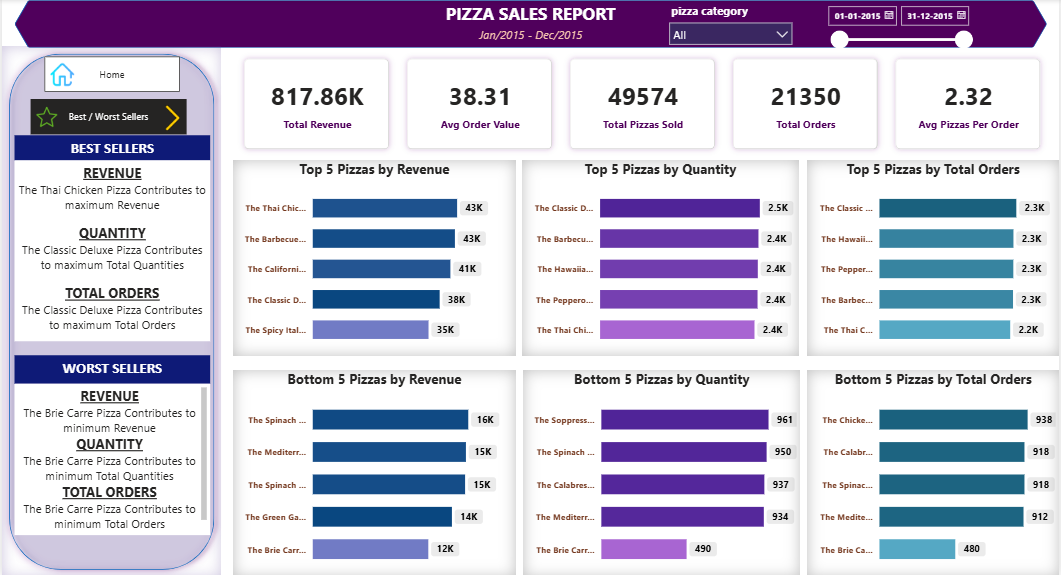

Layout of this report page (visuals, bound fields, positions):
{"tool":"powerbi","page":{"name":"Best / Worst Sellers","canvas":[1500,820],"ordinal":1},"visuals":[{"type":"cardVisual","fields":{"Data":["pizza_sales.Total Revenue","pizza_sales.Avg Order Value","pizza_sales.Total Pizzas Sold","pizza_sales.Total Orders","pizza_sales.Avg Pizzas Per Order"]},"box":[328.3,68.8,1162.5,160.9],"z":0},{"type":"shape","box":[16.9,1.3,1464.8,67.5],"z":1000},{"type":"textbox","box":[613.7,0,273.3,42.1],"z":2000},{"type":"textbox","box":[664.9,34.2,170.8,35.5],"z":3000},{"type":"barChart","title":"Top 5 Pizzas by Revenue","fields":{"Category":["pizza_sales.pizza_name"],"Y":["pizza_sales.Total Revenue"]},"box":[328.3,228.4,400.9,277.7],"z":4000},{"type":"shape","box":[0,67.5,311.4,752.5],"z":9000},{"type":"textbox","box":[16.9,193.3,277.7,36.3],"z":10000},{"type":"textbox","box":[16.9,229.7,277.7,256.9],"z":11000},{"type":"textbox","box":[16.9,506,277.7,40.2],"z":12000},{"type":"textbox","box":[16.9,546.2,277.7,214.1],"z":13000},{"type":"slicer","fields":{"Values":["pizza_sales.pizza_category"]},"box":[936.8,0,194.6,67.5],"z":14000},{"type":"slicer","fields":{"Values":["pizza_sales.order_date"]},"box":[1159.9,0,225.8,81.7],"z":15000},{"type":"barChart","title":"Bottom 5 Pizzas by Revenue","fields":{"Category":["pizza_sales.pizza_name"],"Y":["pizza_sales.Total Revenue"]},"box":[328.3,526.8,400.9,293.2],"z":15001},{"type":"barChart","title":"Top 5 Pizzas by Quantity","fields":{"Category":["pizza_sales.pizza_name"],"Y":["pizza_sales.Total Pizzas Sold"]},"box":[738.3,229.7,393.1,277.7],"z":15002},{"type":"barChart","title":"Bottom 5 Pizzas by Quantity","fields":{"Category":["pizza_sales.pizza_name"],"Y":["pizza_sales.Total Pizzas Sold"]},"box":[739.6,526.8,393.1,293.2],"z":15003},{"type":"barChart","title":"Top 5 Pizzas by Total Orders","fields":{"Category":["pizza_sales.pizza_name"],"Y":["pizza_sales.Total Orders"]},"box":[1141.8,228.4,358.1,277.7],"z":15004},{"type":"barChart","title":"Bottom 5 Pizzas by Total Orders","fields":{"Category":["pizza_sales.pizza_name"],"Y":["pizza_sales.Total Orders"]},"box":[1141.8,526.8,358.1,293.2],"z":15005},{"type":"pageNavigator","box":[41.5,142.7,221.9,50.6],"z":15006},{"type":"pageNavigator","box":[59.7,81.7,192,50.6],"z":15007},{"type":"image","box":[41.5,90.8,89.5,33.7],"z":15008},{"type":"image","box":[41.5,153.1,45.4,29.8],"z":15009},{"type":"image","box":[189.4,150.5,105.1,36.3],"z":15010}]}

Visuals, with their boxes in screenshot pixels (x1, y1, x2, y2), scaled from the page's 1500x820 canvas onto the 1061x575 screenshot:
cardVisual - pizza_sales.Total Revenue x pizza_sales.Avg Order Value: 232, 48, 1054, 161
shape: 12, 1, 1048, 48
textbox: 434, 0, 627, 30
textbox: 470, 24, 591, 49
"Top 5 Pizzas by Revenue" barChart: 232, 160, 516, 355
shape: 0, 47, 220, 574
textbox: 12, 136, 208, 161
textbox: 12, 161, 208, 341
textbox: 12, 355, 208, 383
textbox: 12, 383, 208, 533
slicer - pizza_sales.pizza_category: 663, 0, 800, 47
slicer - pizza_sales.order_date: 820, 0, 980, 57
"Bottom 5 Pizzas by Revenue" barChart: 232, 369, 516, 574
"Top 5 Pizzas by Quantity" barChart: 522, 161, 800, 356
"Bottom 5 Pizzas by Quantity" barChart: 523, 369, 801, 574
"Top 5 Pizzas by Total Orders" barChart: 808, 160, 1060, 355
"Bottom 5 Pizzas by Total Orders" barChart: 808, 369, 1060, 574
pageNavigator: 29, 100, 186, 136
pageNavigator: 42, 57, 178, 93
image: 29, 64, 93, 87
image: 29, 107, 61, 128
image: 134, 106, 208, 131
